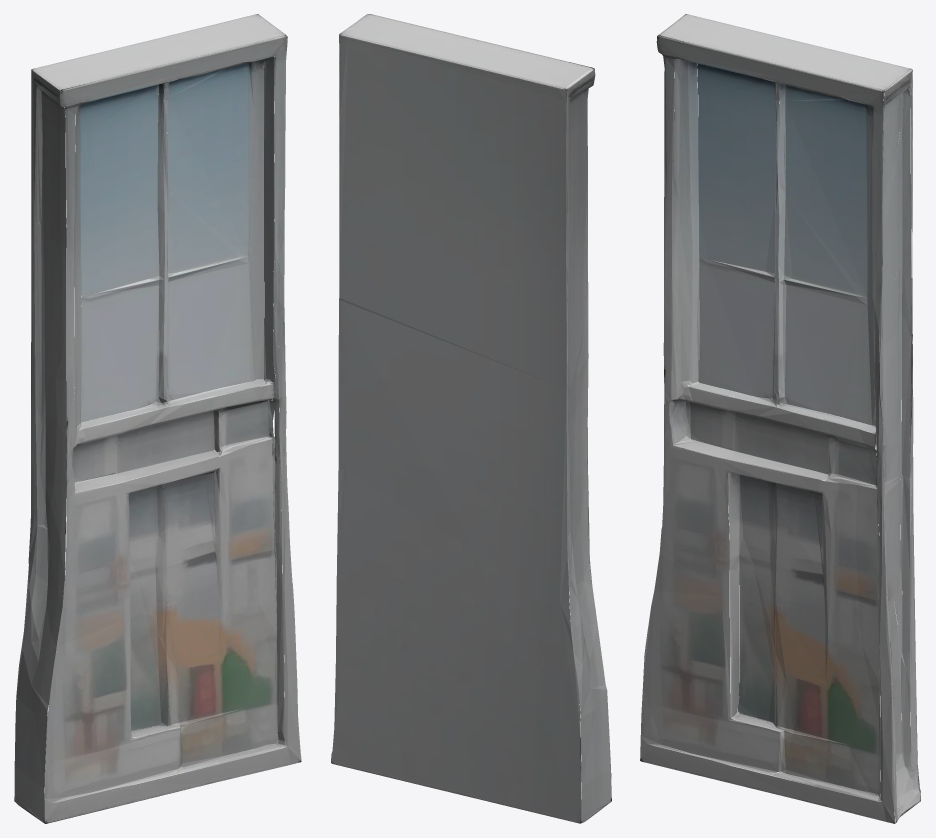
The model's file is window1.glb.
The picture shows the model from 3 angles, left to right: view 1: azimuth 30°, elevation 25°; view 2: azimuth 150°, elevation 25°; view 3: azimuth 330°, elevation 25°; orthographic projection.
Visible parts, largest first — view 1: geometry_0; view 2: geometry_0; view 3: geometry_0.
Boxes of the visible parts, x1,y1,x2,y2 form: geometry_0: (14,14,301,823); geometry_0: (331,14,611,823); geometry_0: (640,14,920,823).
Bounding box in the file's own units: 0.3673 × 1 × 0.0794.
1 material, 1 textured.
